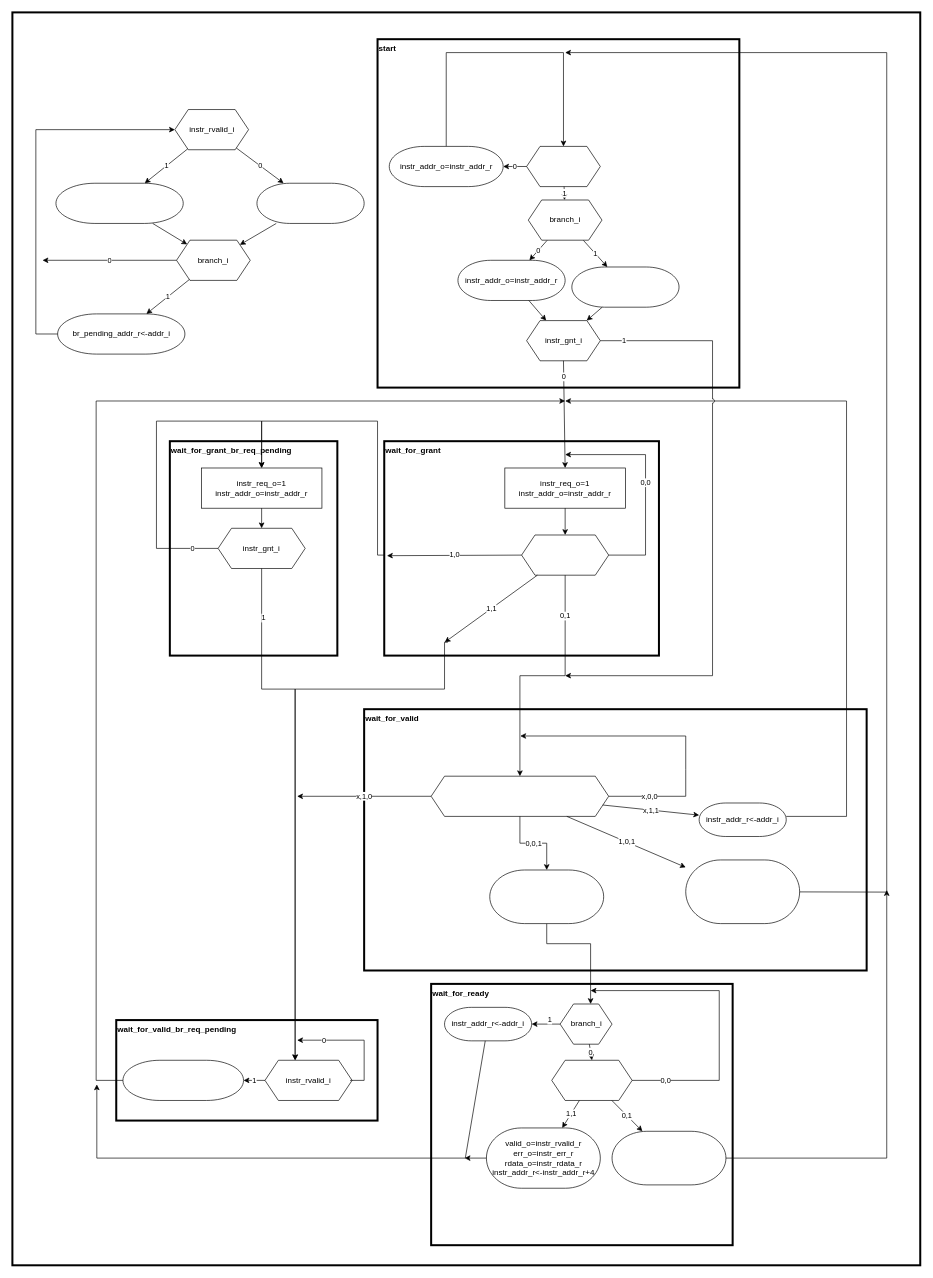
This 933x1278 diagram has some shape labels left out. Here are the shapes that lost their labels. From the top down, the centre of each, then its label:
At [563,166]: "req_i".
At [119,203]: "rdata_o = instr_rdata_i instr_rdata_r <- instr_rdata_i".
At [310,203]: "rdata_o = instr_rdata_r".
At [625,286]: "instr_addr_o=addr_i instr_addr_r<-addr_i".
At [565,554]: "branch_i,instr_gnt_i".
At [519,796]: "ready_i,branch_i,instr_rvalid_i+err_i".
At [546,896]: "instr_err_r>-instr_err_i instr_rvalid_r->instr_rvalid_i".
At [742,891]: "valid_o=instr_rvalid_i err_o=instr_err_i instr_addr_r<-instr_addr_r+4".
At [183,1080]: "instr_addr_r<-br_pending_addr_r".
At [591,1080]: "req_i, ready_i".
At [668,1158]: "valid_o=instr_rvalid_r err_o=instr_err_r instr_addr_r<-instr_addr_r+4".
